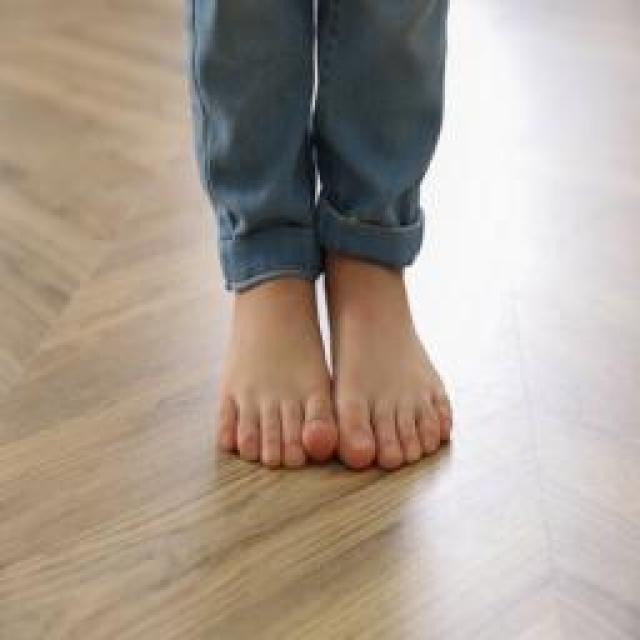No_Shoes: (346, 175, 449, 504), (212, 185, 312, 499)
